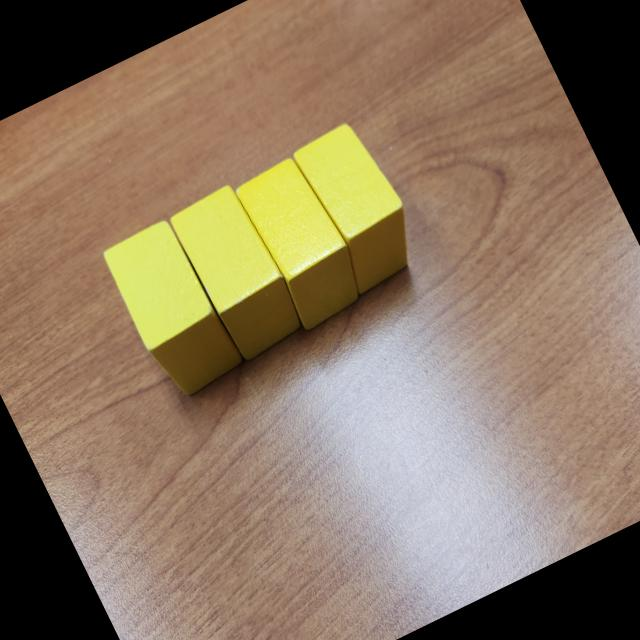yellow: (98, 214, 248, 404), (166, 176, 312, 364), (230, 151, 374, 335), (287, 115, 432, 297)
